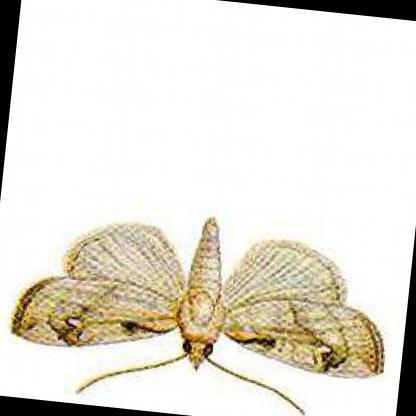Leaf Webber: (9, 213, 383, 380)
